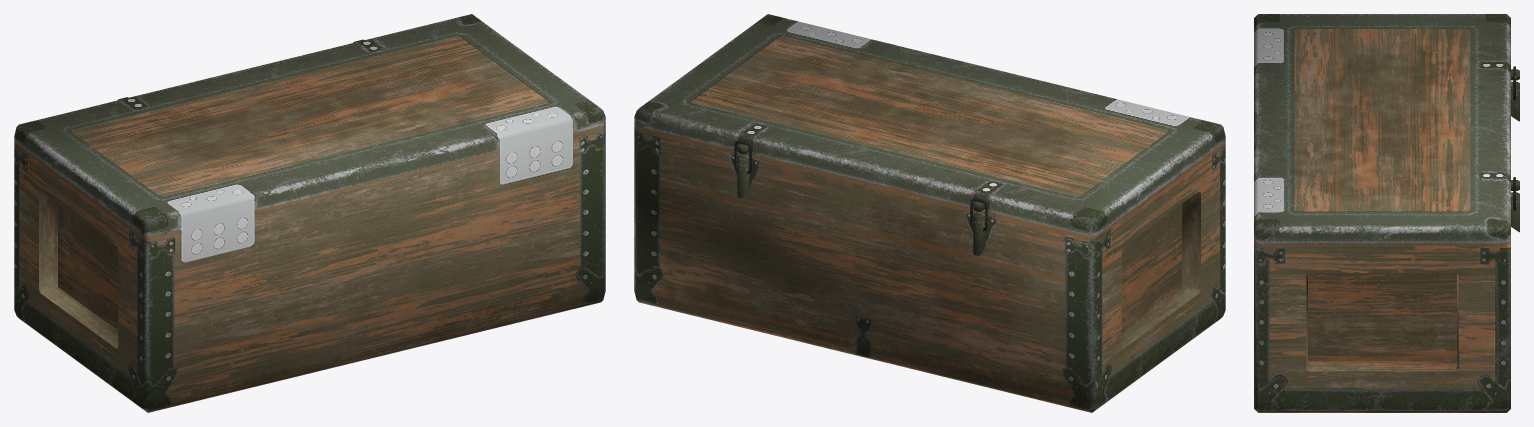
Rendered from itembox.fbx.
3 renders of one model, left to right at view 1: azimuth 30°, elevation 25°; view 2: azimuth 150°, elevation 25°; view 3: azimuth 270°, elevation 25°, orthographic. The views are drawn at different scales.
Parts seen in each view (by area): view 1: Weapon box; view 2: Weapon box; view 3: Weapon box.
Boxes of the visible parts, <box> form: Weapon box: <box>14,14,605,412</box>; Weapon box: <box>634,14,1225,412</box>; Weapon box: <box>1254,14,1519,412</box>.
Bounding box in the file's own units: 99.94 × 40 × 51.73.
